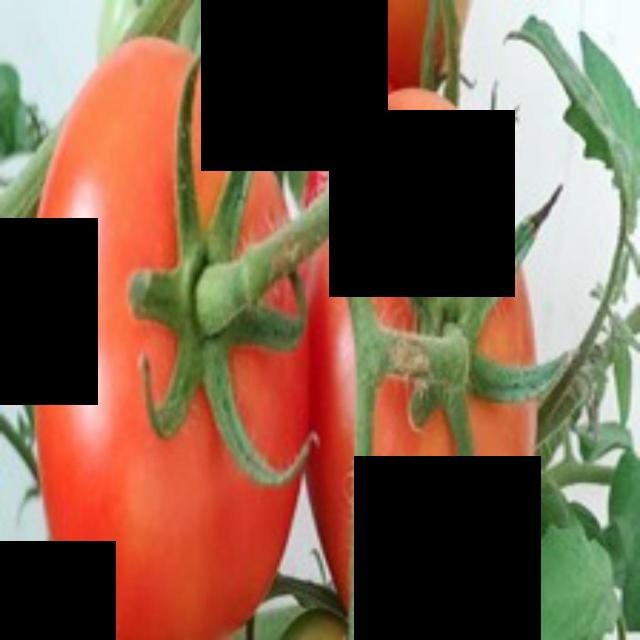tomato: (25, 17, 322, 637), (300, 68, 566, 640)
